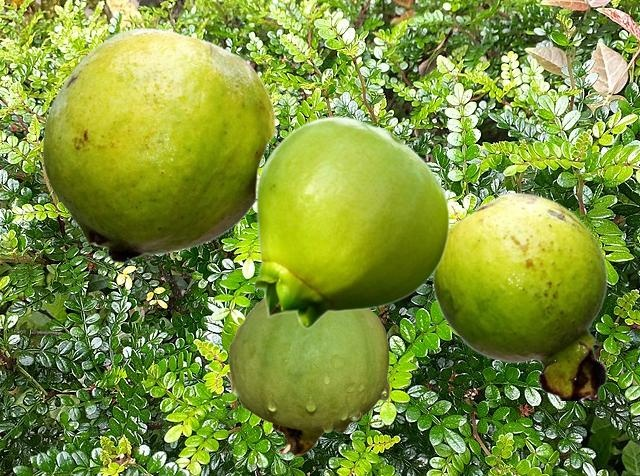guava: (42, 27, 275, 263), (253, 116, 449, 328), (432, 192, 607, 399), (228, 298, 389, 455)
